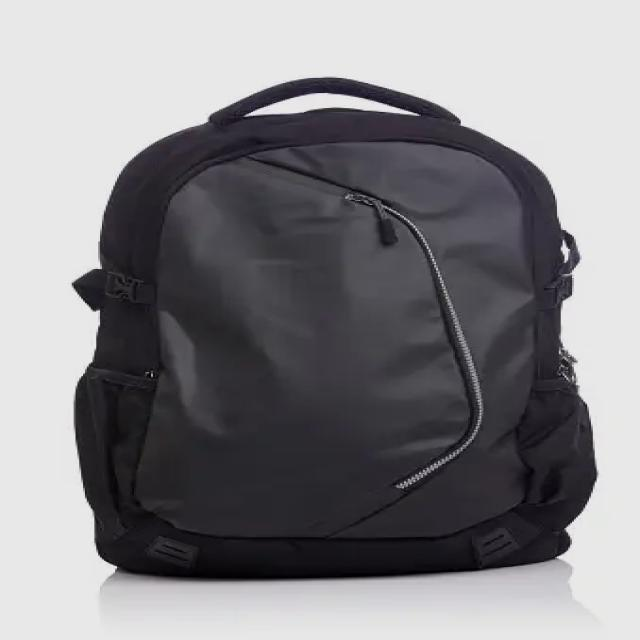backpack: (71, 77, 597, 580)
